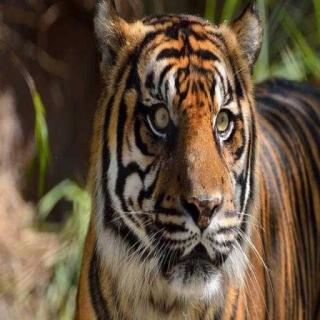Tiger: (72, 0, 320, 320)
